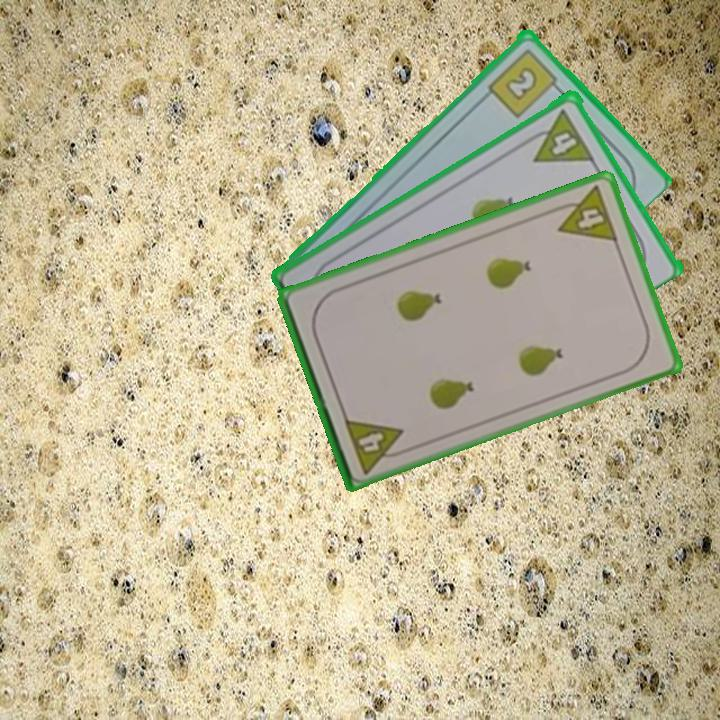2b: (484, 44, 565, 120)
4p: (521, 104, 597, 166), (548, 182, 621, 245), (340, 414, 412, 477)
